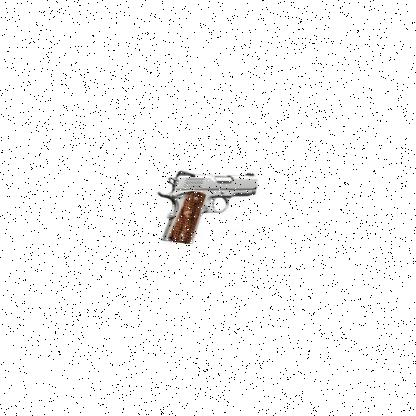gun: (160, 169, 258, 249)
